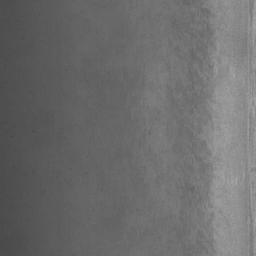Silk spot: (185, 3, 214, 114), (177, 119, 213, 208), (184, 212, 216, 256), (166, 82, 182, 108), (197, 107, 212, 134), (173, 144, 185, 155), (177, 0, 195, 5), (172, 18, 179, 29)
